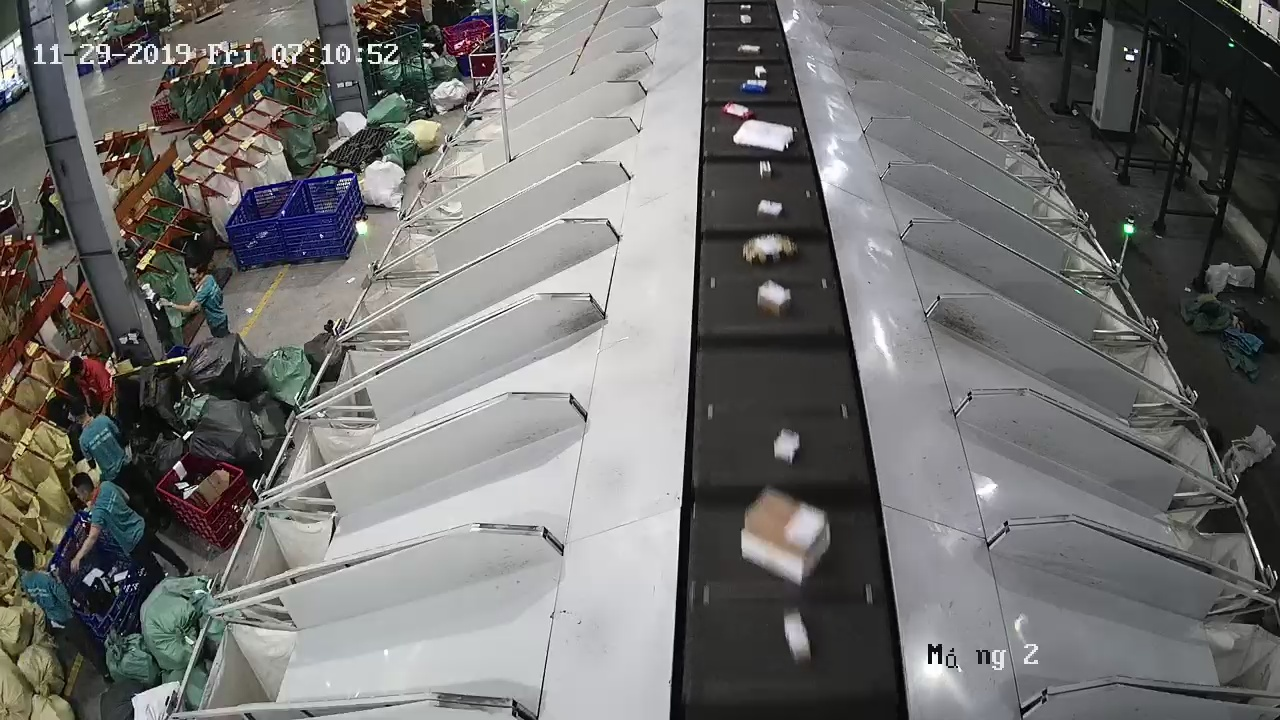parcel: (741, 490, 831, 588), (732, 119, 795, 153), (742, 232, 799, 267), (783, 609, 812, 664), (758, 281, 792, 318), (774, 428, 801, 466), (756, 199, 784, 220), (759, 160, 772, 181)
